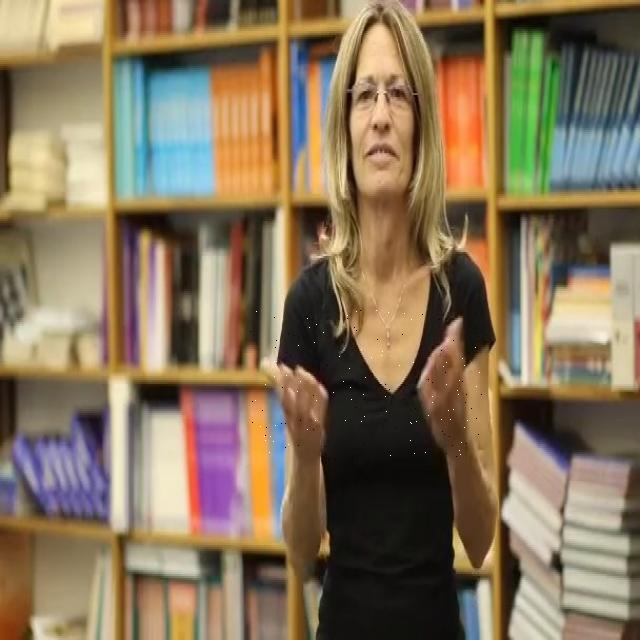what: (248, 310, 482, 460)
